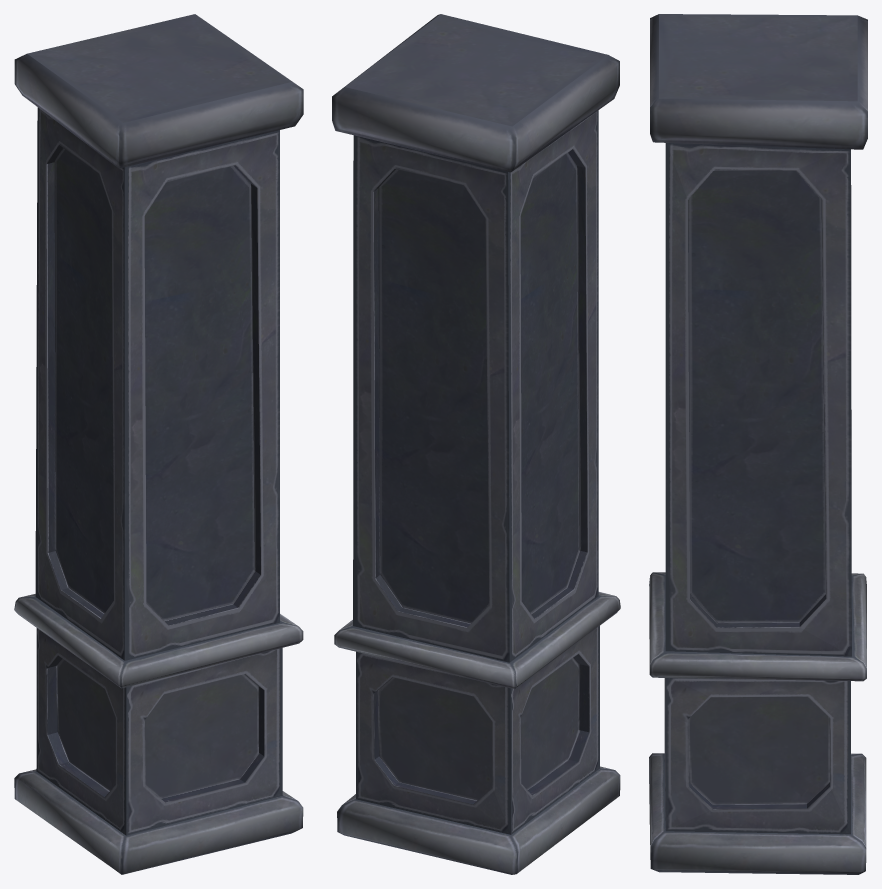
Rendered from Dungeon_column.fbx.
3 renders of one model, left to right at view 1: azimuth 30°, elevation 25°; view 2: azimuth 150°, elevation 25°; view 3: azimuth 270°, elevation 25°, orthographic. The views are drawn at different scales.
Parts seen in each view (by area): view 1: Cube; view 2: Cube; view 3: Cube.
Part boxes in pixels (box(x1,y1,x2,y2)): Cube: box(14, 14, 303, 874); Cube: box(332, 14, 620, 874); Cube: box(649, 14, 867, 874).
Size of the model in its own units: 184 by 718 by 183.
Materials: 1 (1 with a texture image).
